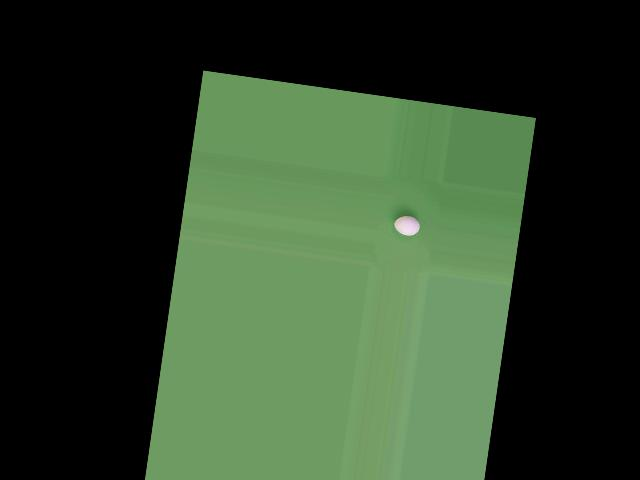egg: (393, 214, 421, 237)
